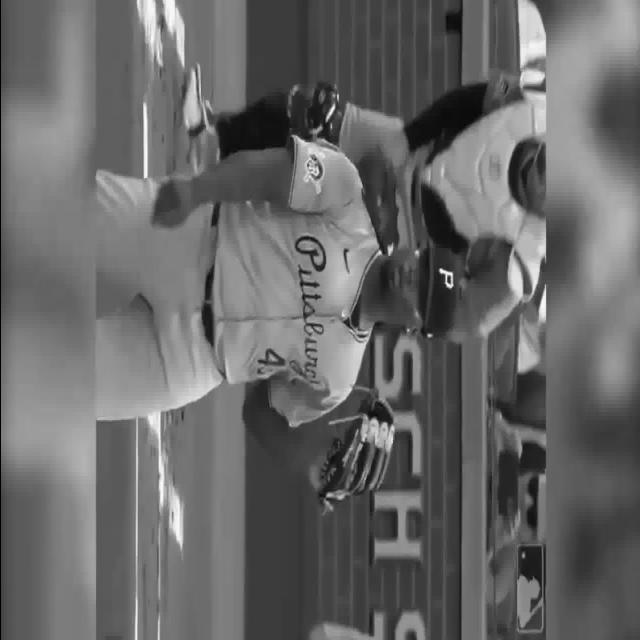base: (140, 96, 150, 188)
baseball_glove: (319, 397, 392, 513), (360, 151, 400, 249)
